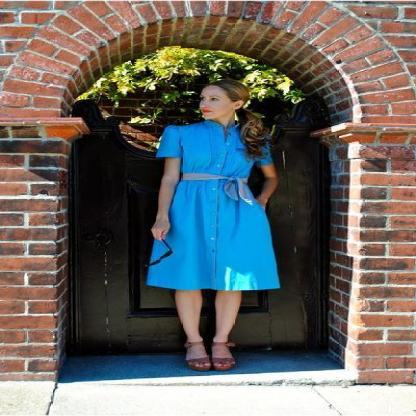dress: (146, 118, 278, 290)
shoe: (185, 336, 245, 371)
